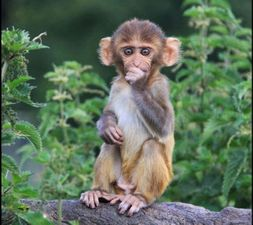monkey: (71, 13, 225, 205)
